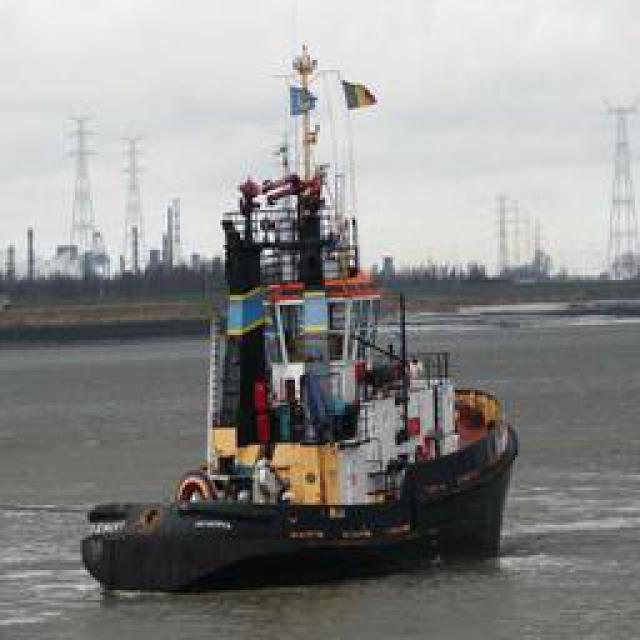Ship: (113, 35, 518, 578)
